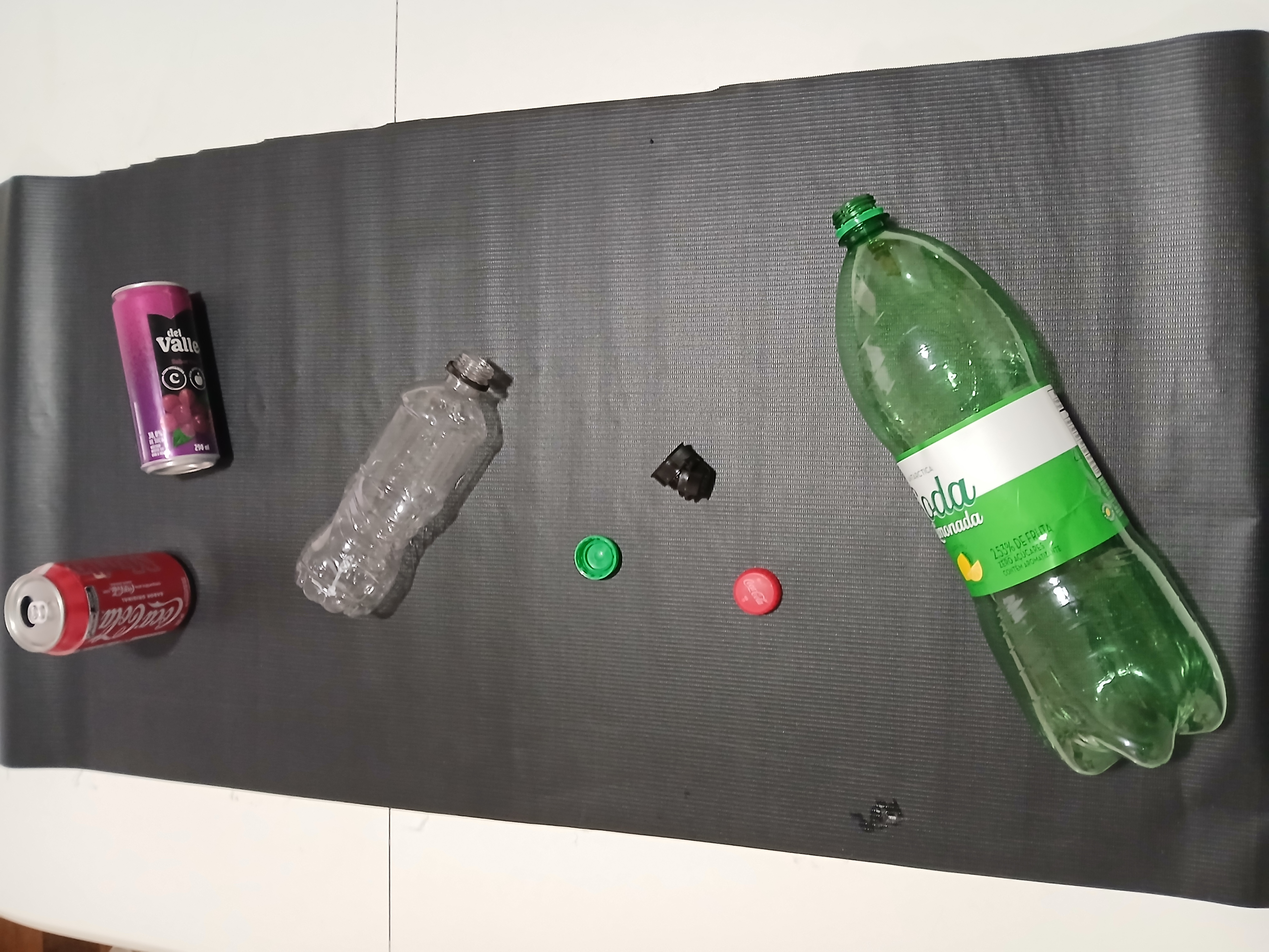Carded blister pack: (103, 277, 243, 481), (2, 546, 201, 665)
Clear plastic bottle: (830, 190, 1237, 782), (288, 349, 522, 623)
Other plastic bottle: (648, 439, 718, 506), (732, 564, 785, 618), (570, 532, 624, 583)
